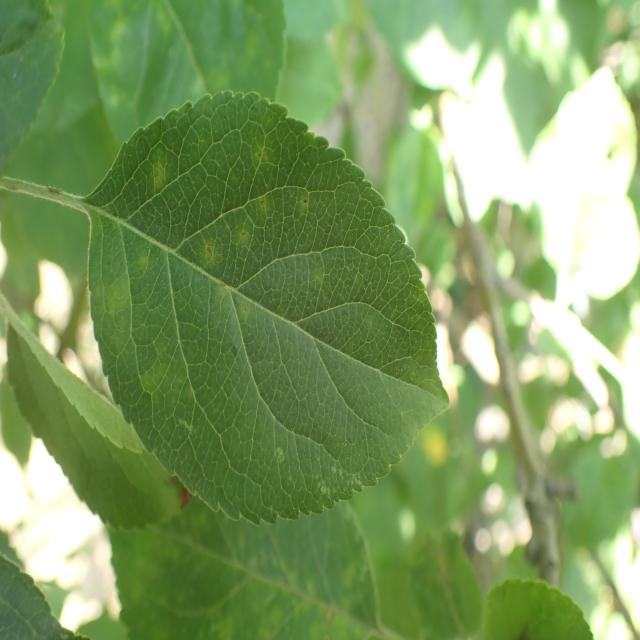scab: (93, 113, 432, 478)
